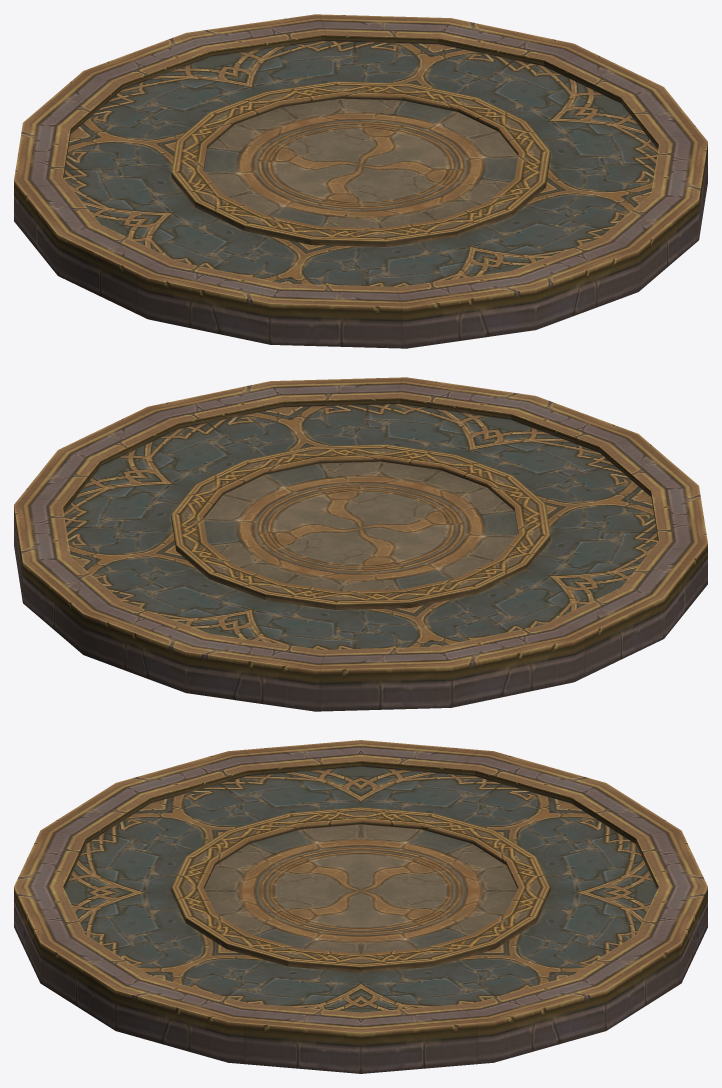
Rendered from wj_taizi.FBX.
3 renders of one model, top to bottom at view 1: azimuth 30°, elevation 25°; view 2: azimuth 150°, elevation 25°; view 3: azimuth 270°, elevation 25°, orthographic.
Parts seen in each view (by area): view 1: wj_taizi; view 2: wj_taizi; view 3: wj_taizi.
Boxes of the visible parts, <box> form: wj_taizi: <box>14,14,707,348</box>; wj_taizi: <box>14,377,707,711</box>; wj_taizi: <box>14,740,707,1073</box>.
Size of the model in its own units: 1987 by 129 by 1987.
